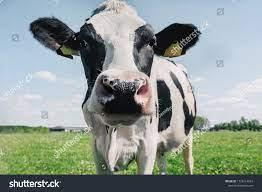cow: (29, 0, 202, 174)
